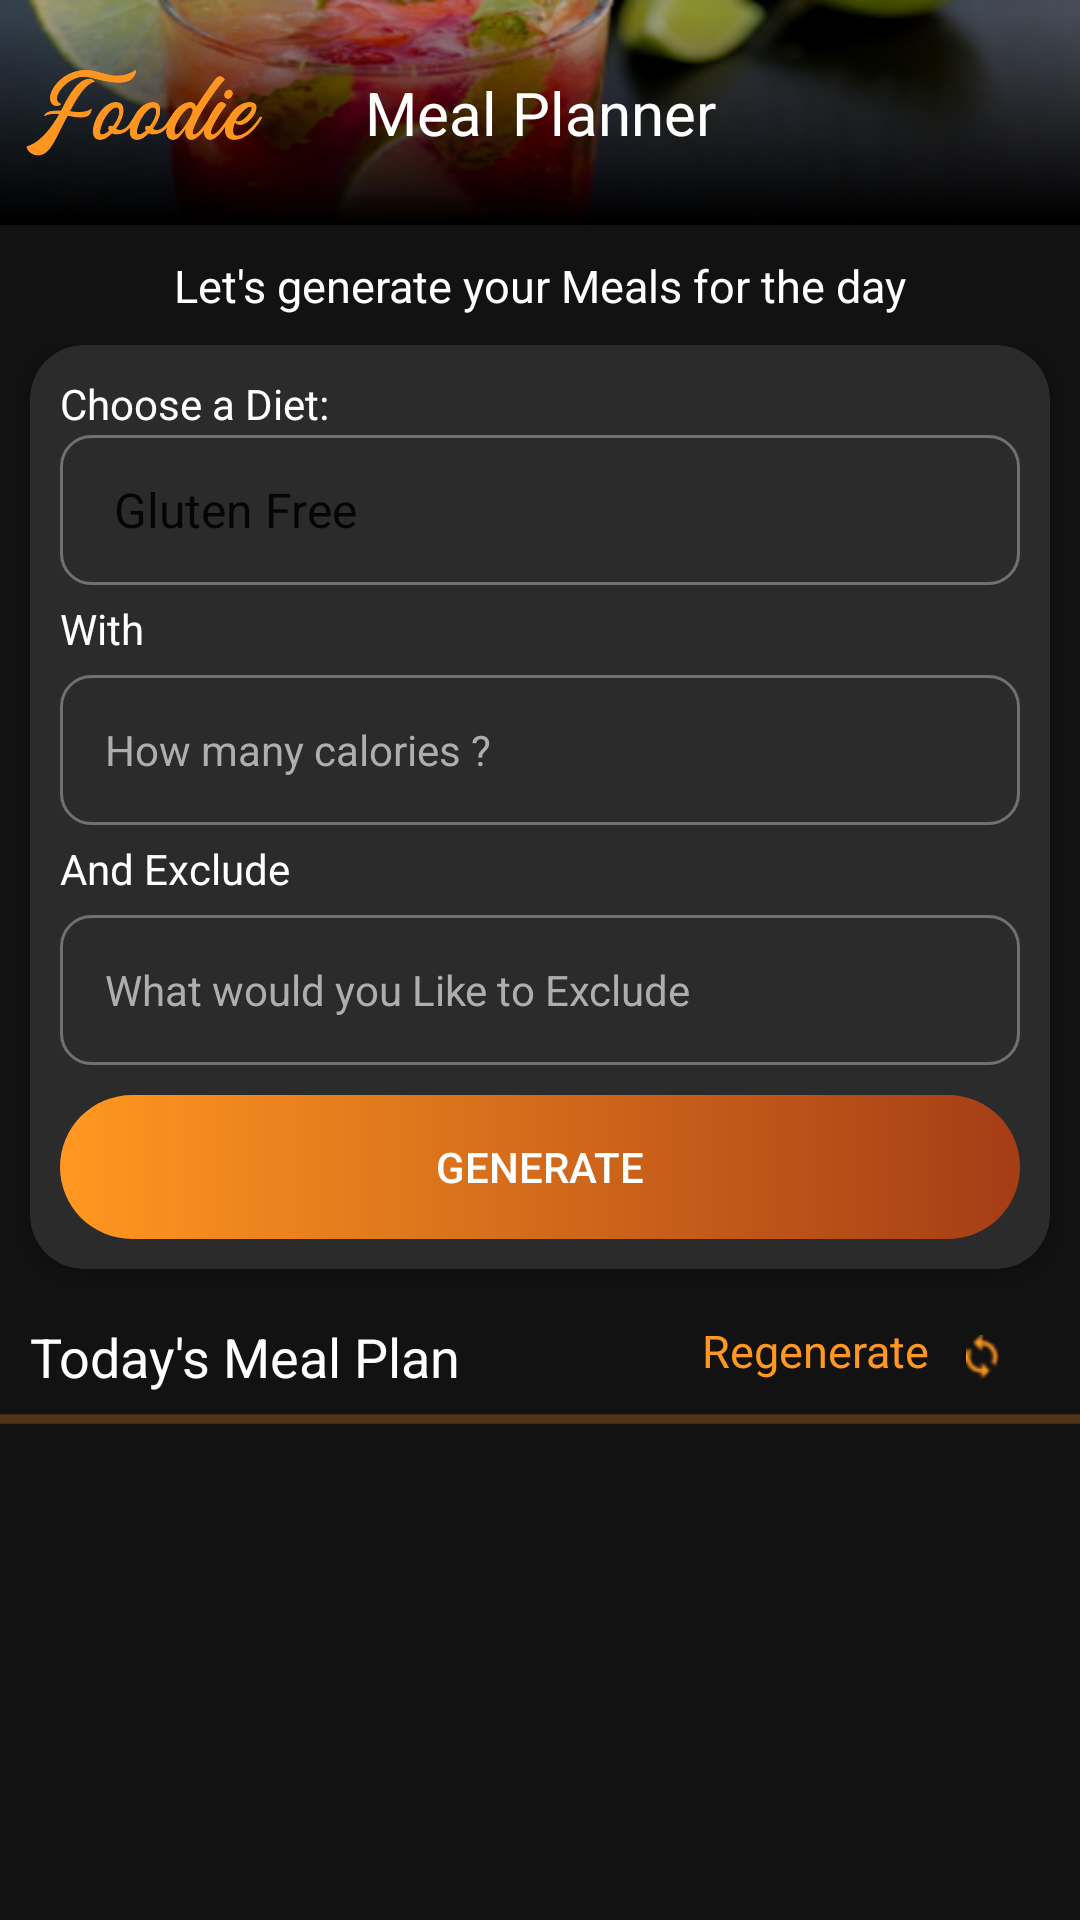

Icon bounding boxes for this 1080x1920 phone screenshot, format (x1, y1, x2, y2):
refresh: (966, 1335, 999, 1378)
